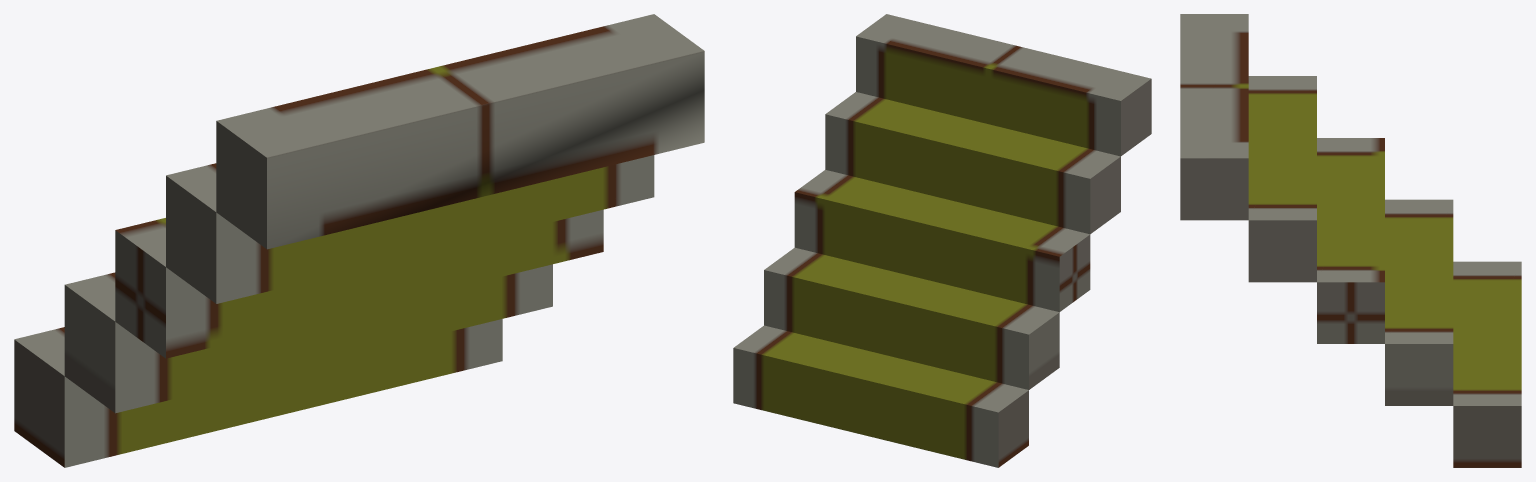
File: Stairs2.fbx
3 views of the same model, side by side, from view 1: azimuth 30°, elevation 25°; view 2: azimuth 150°, elevation 25°; view 3: azimuth 270°, elevation 25° (orthographic). The views are drawn at different scales.
Parts seen in each view (by area): view 1: StairsDown, StairsUp, StairsRight; view 2: StairsUp, StairsRight; view 3: StairsUp, StairsLeft.
Part boxes in pixels (x1,y1,x2,y2): StairsDown: (64, 51, 704, 467); StairsUp: (14, 14, 704, 375); StairsRight: (14, 121, 266, 467); StairsUp: (733, 14, 1150, 467); StairsRight: (998, 79, 1151, 467); StairsUp: (1180, 14, 1521, 405); StairsLeft: (1180, 158, 1521, 467).
Size of the model in its own units: 100 by 100 by 100.
